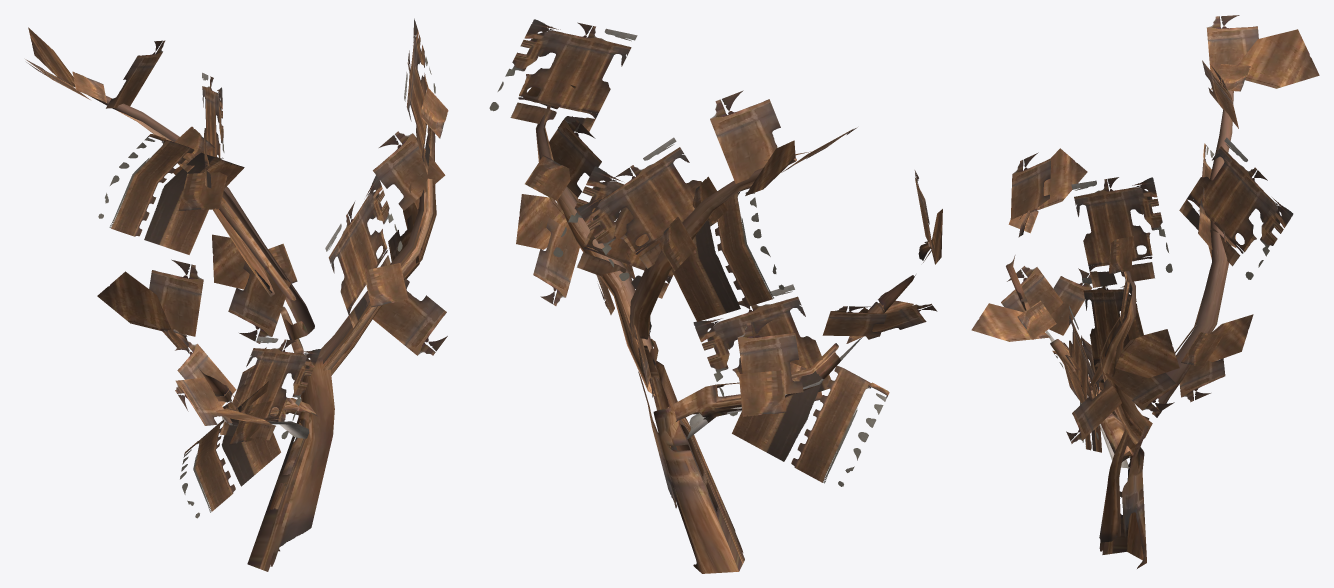
3 renders of one model, left to right at view 1: azimuth 30°, elevation 25°; view 2: azimuth 150°, elevation 25°; view 3: azimuth 270°, elevation 25°, orthographic. The views are drawn at different scales.
Parts seen in each view (by area): view 1: SM_Bed_02v1_LOD0; view 2: SM_Bed_02v1_LOD0; view 3: SM_Bed_02v1_LOD0.
Boxes of the visible parts, x1,y1,x2,y2 form: SM_Bed_02v1_LOD0: [25, 18, 448, 571]; SM_Bed_02v1_LOD0: [489, 19, 942, 573]; SM_Bed_02v1_LOD0: [971, 15, 1319, 568].
Size of the model in its own units: 0.8689 by 1.09 by 0.7316.
